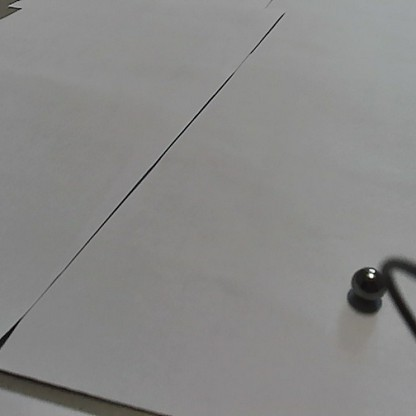ironball: (349, 265, 386, 303)
